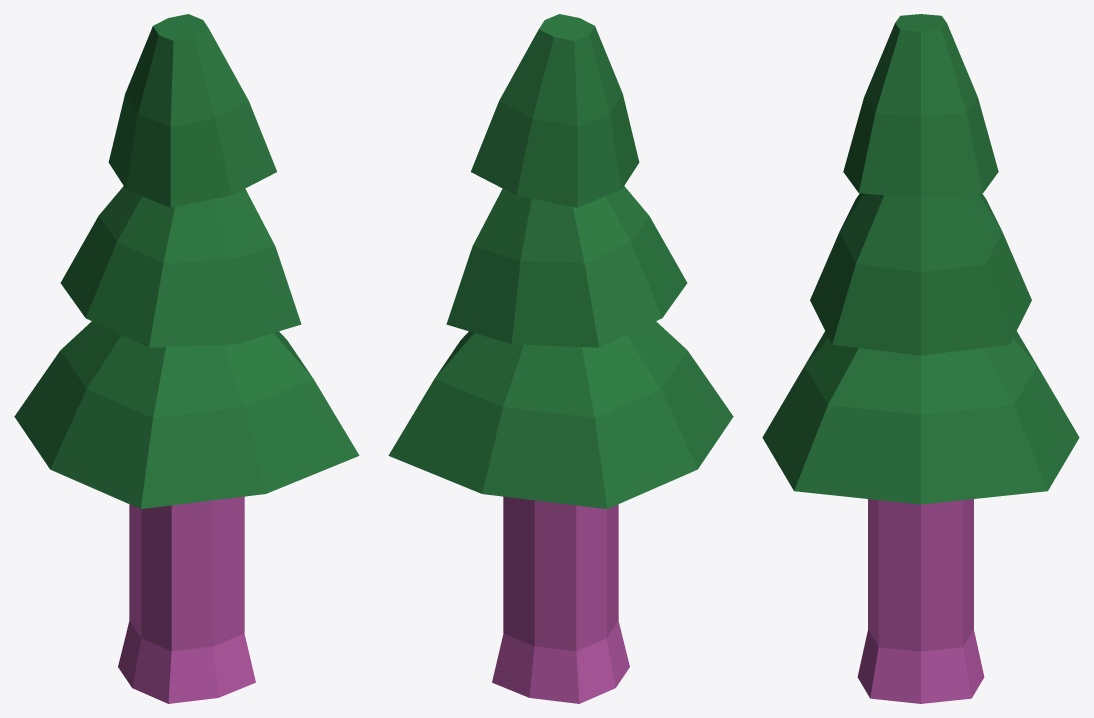
File: Tree.glb
3 views of the same model, side by side, from view 1: azimuth 30°, elevation 25°; view 2: azimuth 150°, elevation 25°; view 3: azimuth 270°, elevation 25° (orthographic).
Parts seen in each view (by area): view 1: Cube, Stump, Tree; view 2: Cube, Stump, Tree; view 3: Cube, Stump, Tree.
Boxes of the visible parts, x1,y1,x2,y2 form: Cube: (14,14,359,508); Stump: (118,573,255,703); Tree: (129,496,244,603); Cube: (388,14,733,508); Stump: (492,573,629,703); Tree: (503,496,618,603); Cube: (762,14,1079,504); Stump: (857,581,984,703); Tree: (868,499,973,603).
Size of the model in its own units: 6 by 13.64 by 6.
